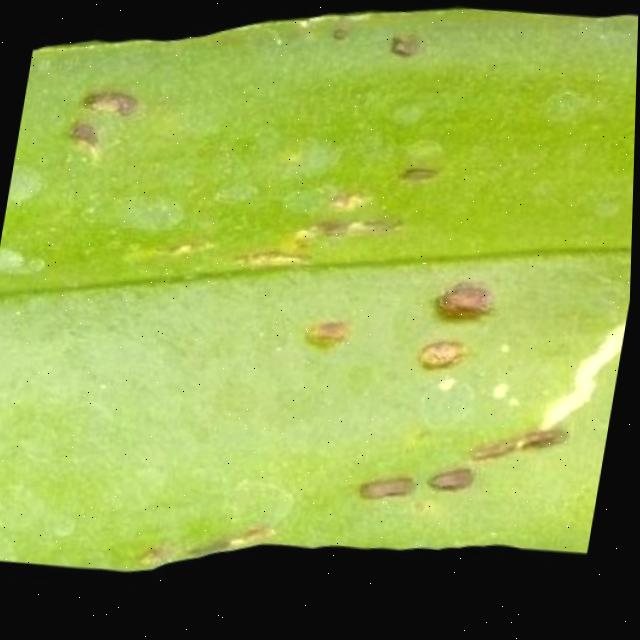mite: (241, 13, 554, 524), (411, 282, 500, 385), (355, 461, 480, 519), (357, 478, 418, 512), (415, 344, 469, 380), (427, 470, 478, 503), (64, 122, 105, 153), (397, 169, 440, 194), (385, 38, 420, 67), (327, 31, 350, 49)
